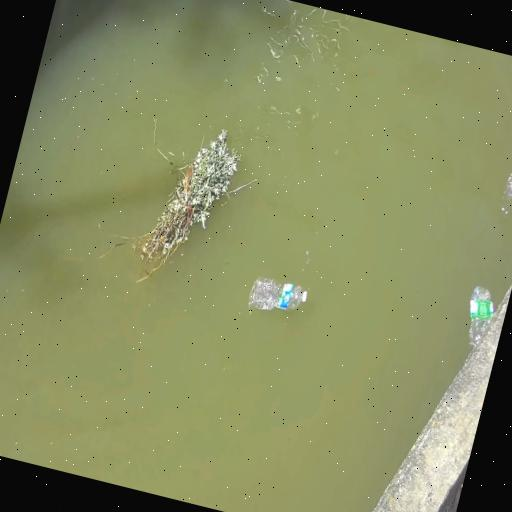plastic: (249, 278, 307, 310), (469, 287, 494, 346), (505, 175, 511, 197)
twig: (133, 130, 240, 281)
